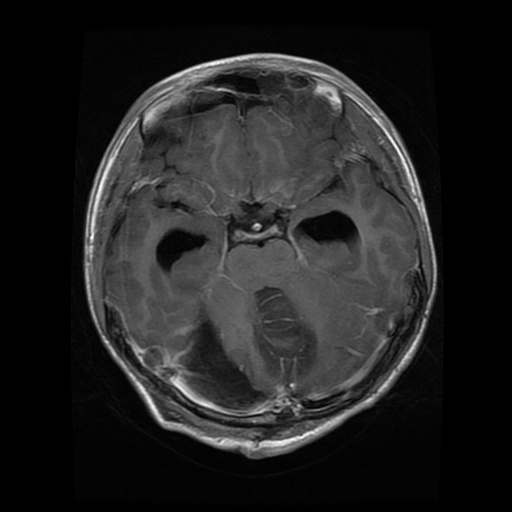glioma: (252, 285, 319, 380)
